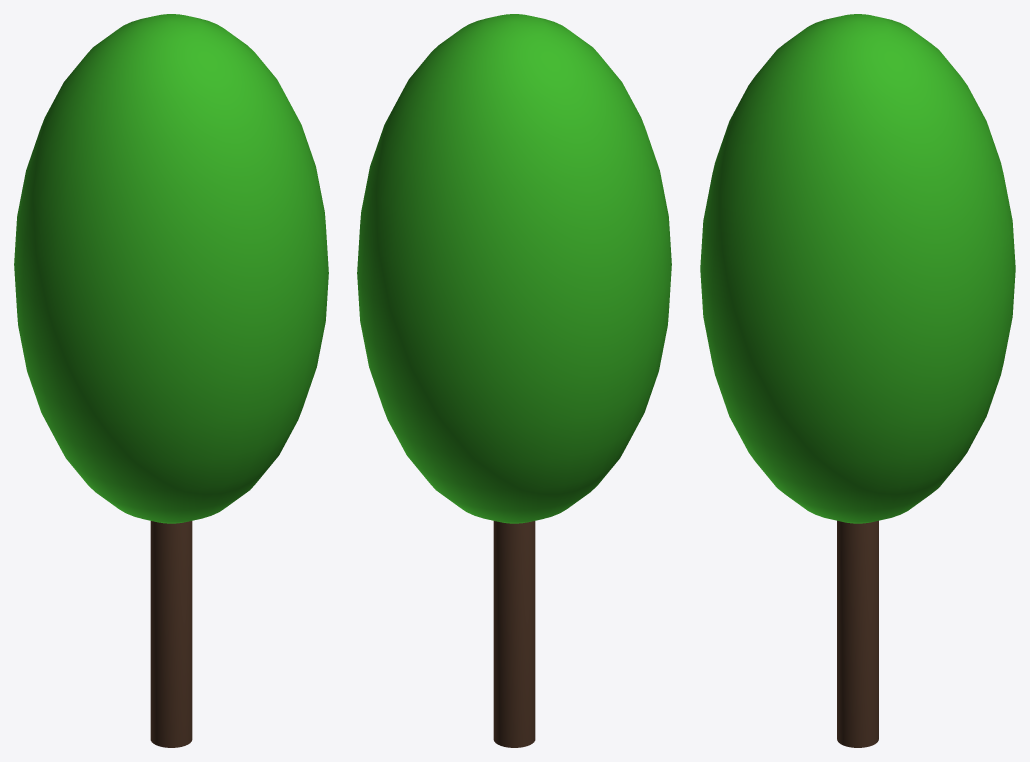
The model's file is tree.glb.
3 views of the same model, side by side, from view 1: azimuth 30°, elevation 25°; view 2: azimuth 150°, elevation 25°; view 3: azimuth 270°, elevation 25° (orthographic).
Parts seen in each view (by area): view 1: Sphere, Cylinder; view 2: Sphere, Cylinder; view 3: Sphere, Cylinder.
Part boxes in pixels (x1,y1,x2,y2): Sphere: [14, 14, 328, 523]; Cylinder: [150, 521, 192, 747]; Sphere: [357, 14, 671, 523]; Cylinder: [493, 521, 535, 747]; Sphere: [700, 14, 1015, 523]; Cylinder: [837, 520, 878, 747].
Size of the model in its own units: 7.52 by 18.85 by 7.52.
